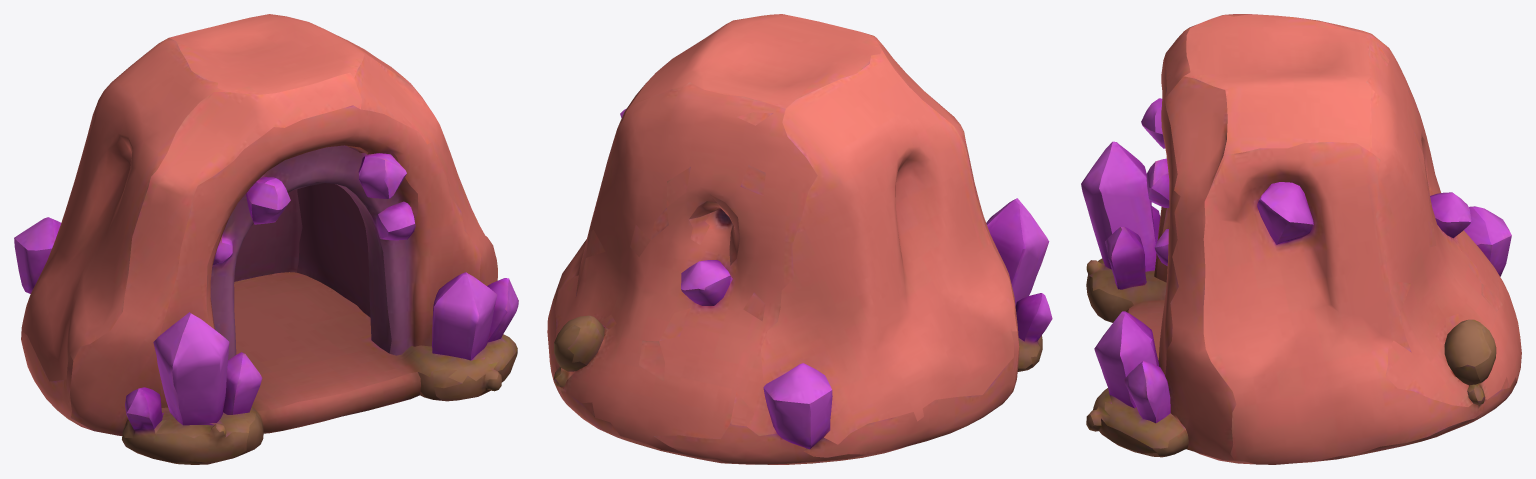
The model's file is lg-crystal-cave-mouth.glb.
3 views of the same model, side by side, from view 1: azimuth 30°, elevation 25°; view 2: azimuth 150°, elevation 25°; view 3: azimuth 270°, elevation 25° (orthographic).
Visible parts, largest first — view 1: geometry_0; view 2: geometry_0; view 3: geometry_0.
Boxes of the visible parts, left/top/right/bottom form: geometry_0: left=14, top=14, right=518, bottom=464; geometry_0: left=547, top=14, right=1052, bottom=464; geometry_0: left=1081, top=14, right=1521, bottom=464.
Bounding box in the file's own units: 1 × 0.7151 × 0.8829.
1 material, 1 textured.
